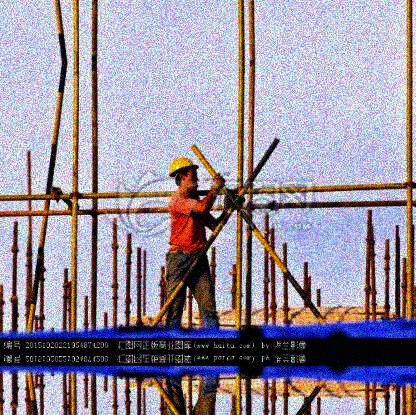helmet: (169, 158, 200, 192)
